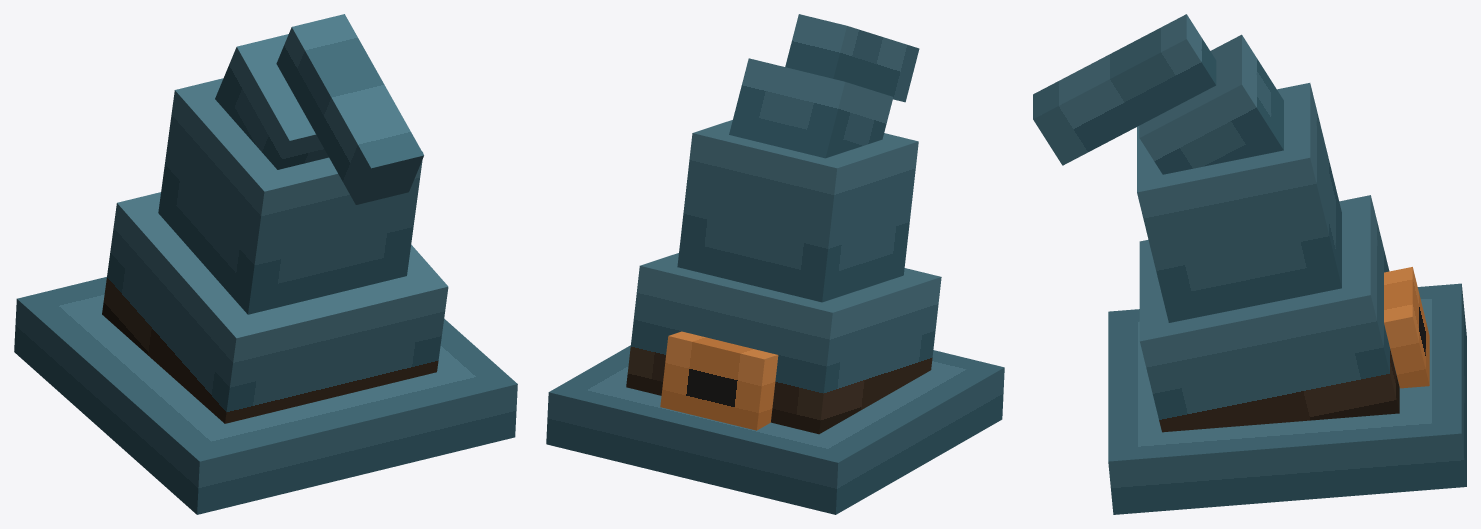
File: mage_hat.obj
3 views of the same model, side by side, from view 1: azimuth 30°, elevation 25°; view 2: azimuth 150°, elevation 25°; view 3: azimuth 270°, elevation 25° (orthographic). The views are drawn at different scales.
Visible parts, largest first — view 1: mage_hat_part_0, mage_hat_part_1, mage_hat_part_2, mage_hat_part_4, mage_hat_part_3; view 2: mage_hat_part_0, mage_hat_part_2, mage_hat_part_1, mage_hat_part_3, mage_hat_part_6, mage_hat_part_4; view 3: mage_hat_part_0, mage_hat_part_1, mage_hat_part_2, mage_hat_part_4, mage_hat_part_3, mage_hat_part_6.
Part boxes in pixels (x1=…): mage_hat_part_0: x1=14, y1=277, x2=517, y2=514; mage_hat_part_1: x1=102, y1=192, x2=448, y2=423; mage_hat_part_2: x1=158, y1=78, x2=422, y2=314; mage_hat_part_4: x1=276, y1=14, x2=423, y2=204; mage_hat_part_3: x1=215, y1=34, x2=328, y2=169; mage_hat_part_0: x1=546, y1=345, x2=1004, y2=514; mage_hat_part_2: x1=677, y1=120, x2=918, y2=302; mage_hat_part_1: x1=626, y1=253, x2=941, y2=434; mage_hat_part_3: x1=729, y1=58, x2=893, y2=158; mage_hat_part_6: x1=660, y1=331, x2=778, y2=430; mage_hat_part_4: x1=785, y1=14, x2=919, y2=102; mage_hat_part_0: x1=1108, y1=283, x2=1466, y2=514; mage_hat_part_1: x1=1139, y1=195, x2=1399, y2=432; mage_hat_part_2: x1=1137, y1=83, x2=1341, y2=322; mage_hat_part_4: x1=1033, y1=14, x2=1216, y2=165; mage_hat_part_3: x1=1139, y1=34, x2=1283, y2=174; mage_hat_part_6: x1=1384, y1=267, x2=1429, y2=388.
Size of the model in its own units: 0.75 by 0.9642 by 0.917.
Materials: 1 (1 with a texture image).
